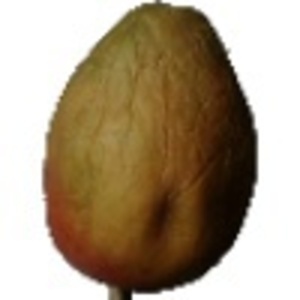mamão: (39, 2, 262, 292)
